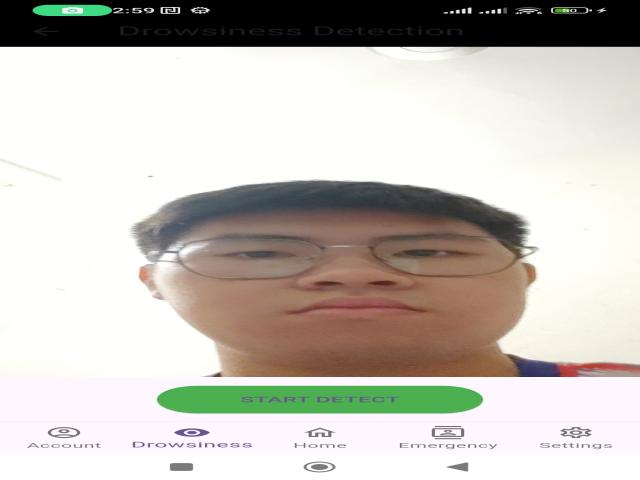eye_open: (194, 246, 320, 268), (380, 243, 494, 264)
face: (143, 198, 544, 362)
